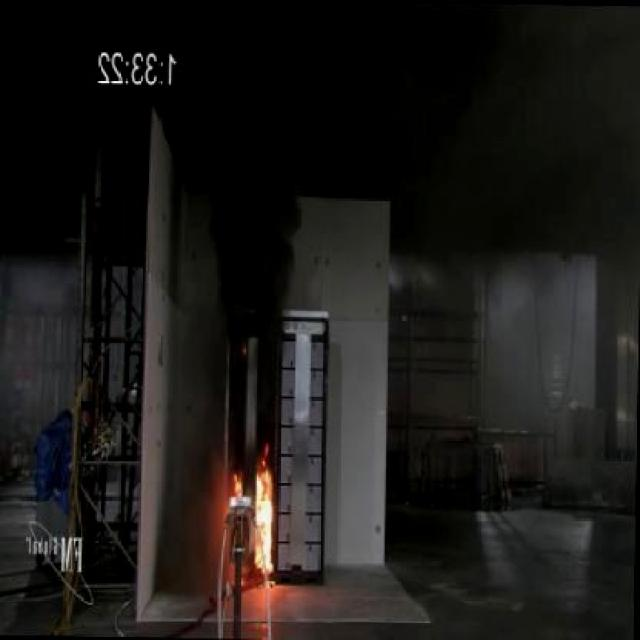fire: (228, 431, 292, 587)
